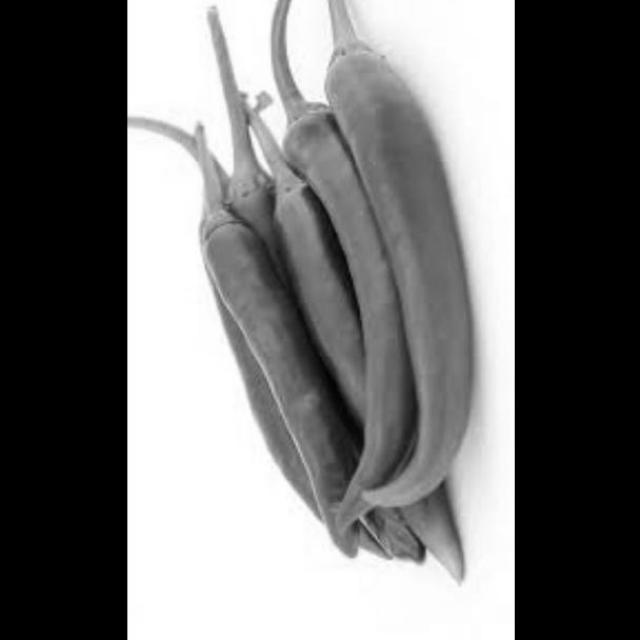hot pepper: (125, 1, 477, 600)
